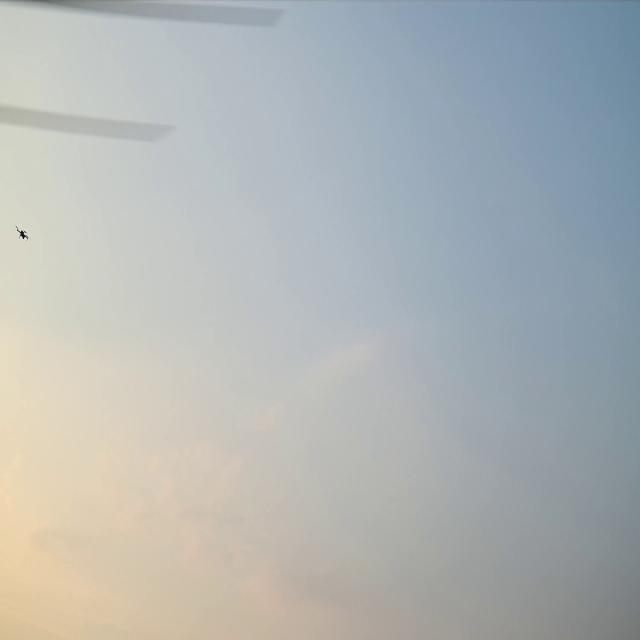UAV: (17, 228, 27, 238)
